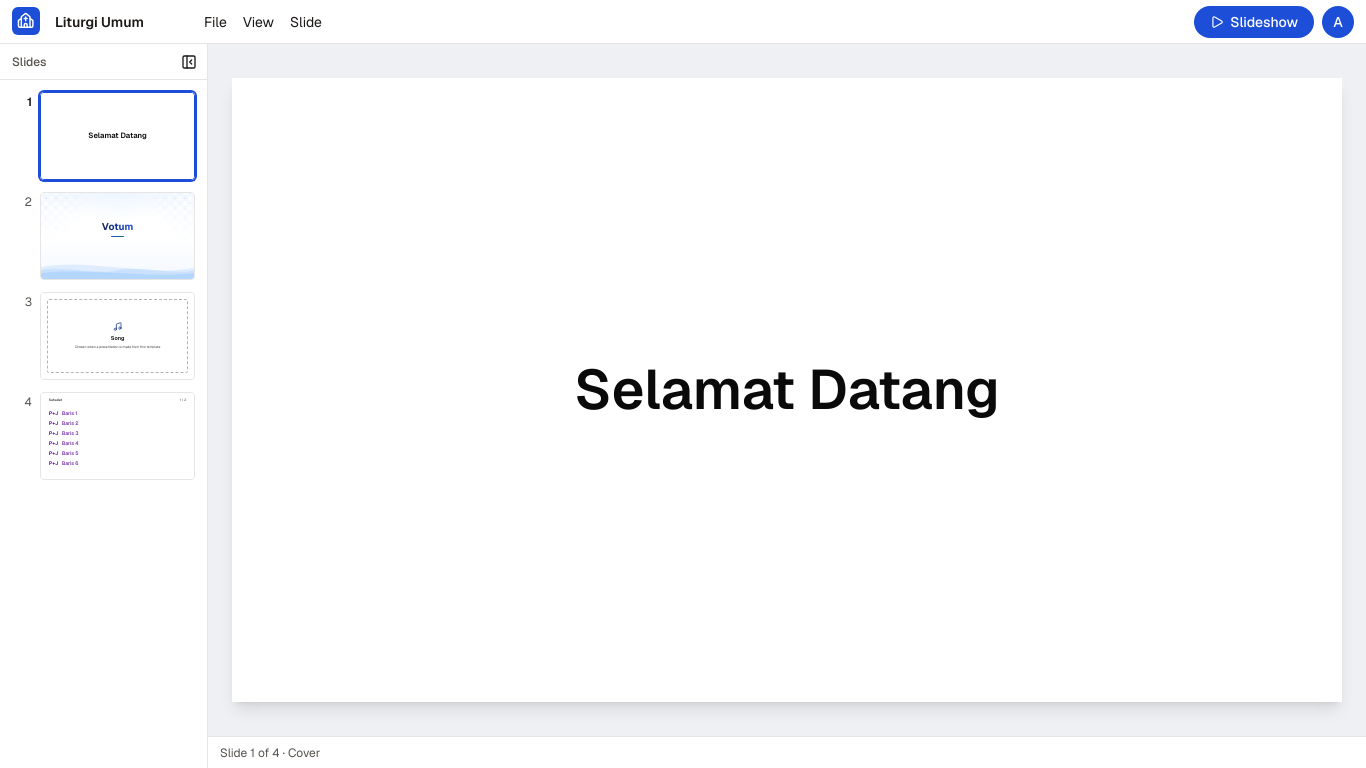
Test: renaming saves through the API and confirms it
Replace the text in the field named "Template name" with "  Liturgi Natal ". click: (118, 22)
box: [48,8,188,34]
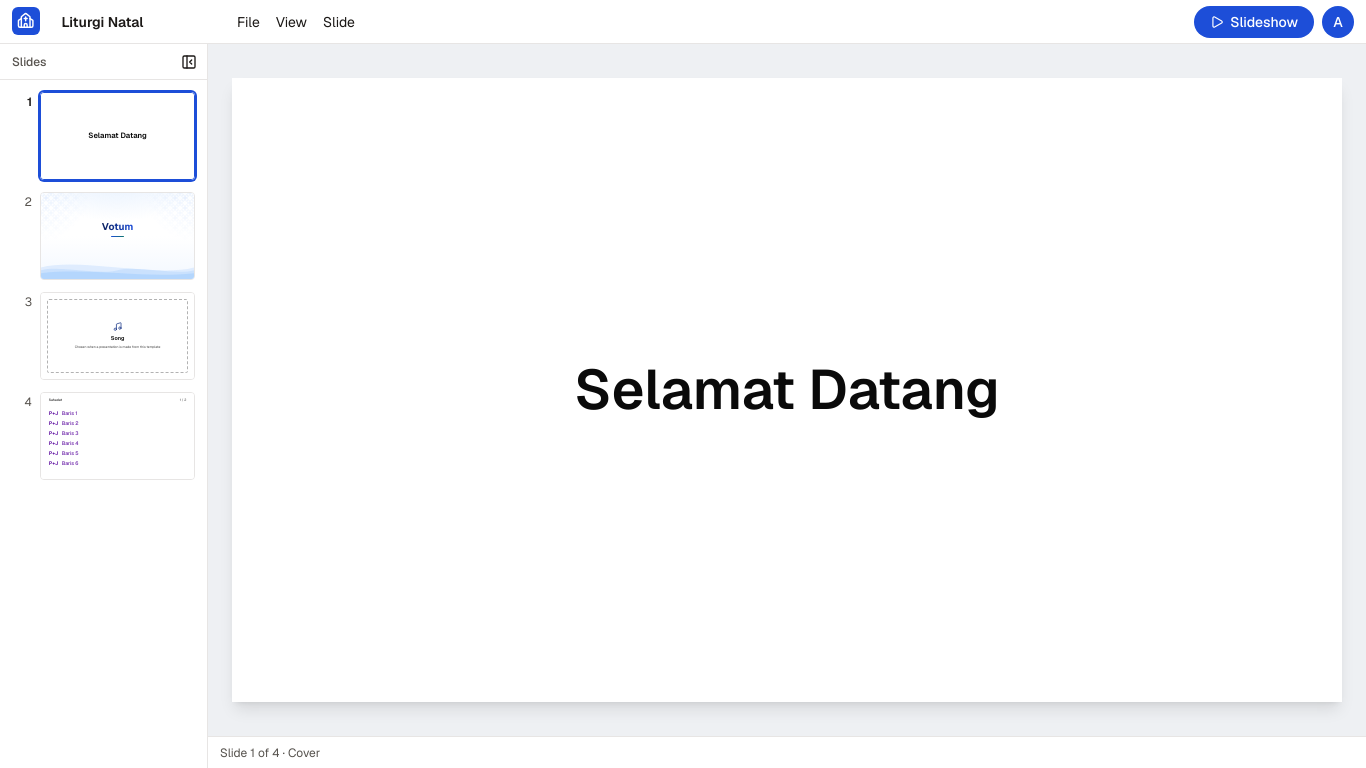
Leave the field named "Template name", box [48,8,221,34]
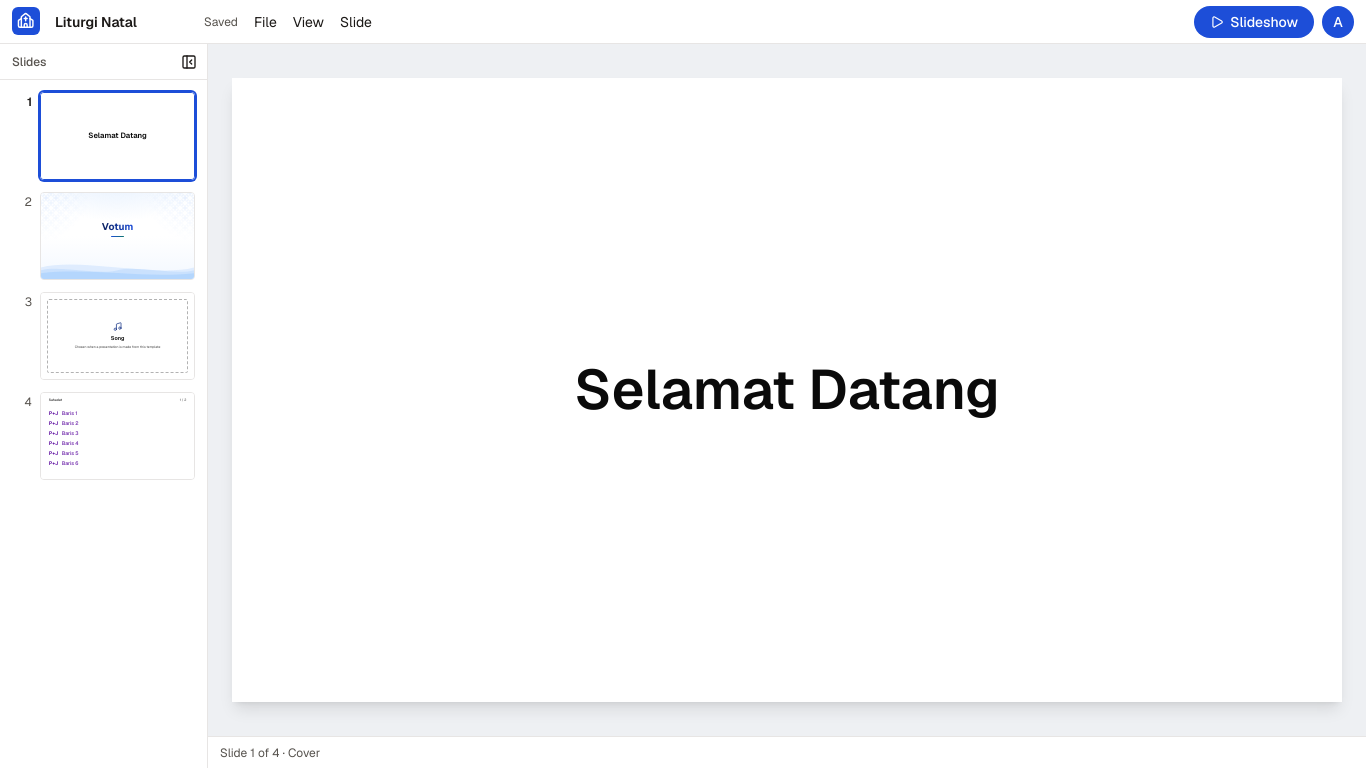
Expected: the text "Saved" is shown, [204,14,238,30]
